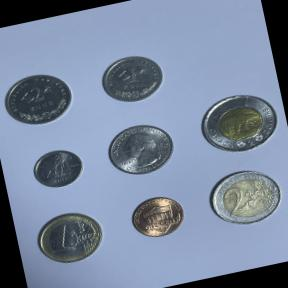coin: (188, 83, 288, 163), (197, 157, 288, 235), (98, 114, 182, 184), (28, 202, 111, 272), (0, 63, 79, 133), (124, 188, 193, 246), (26, 141, 90, 196)
